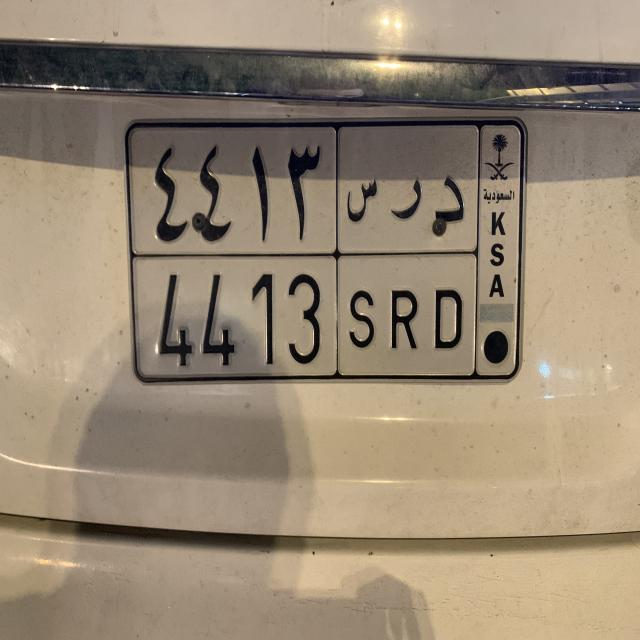license_plate: (123, 113, 532, 388)
